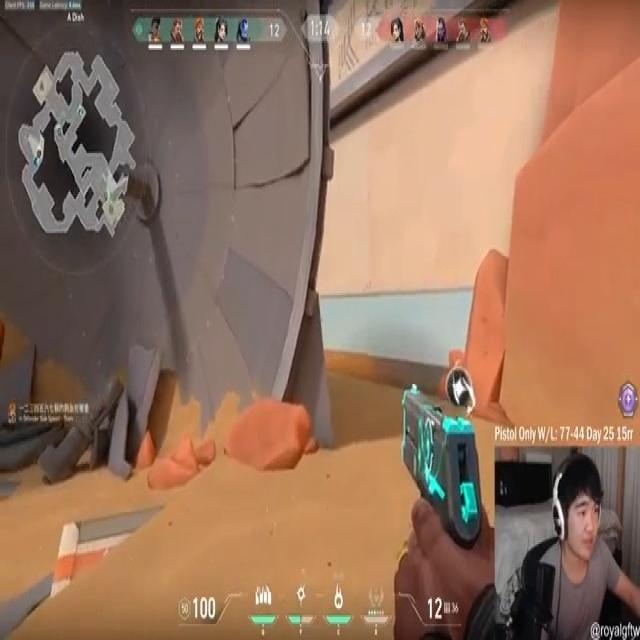orb: (443, 364, 474, 410)
